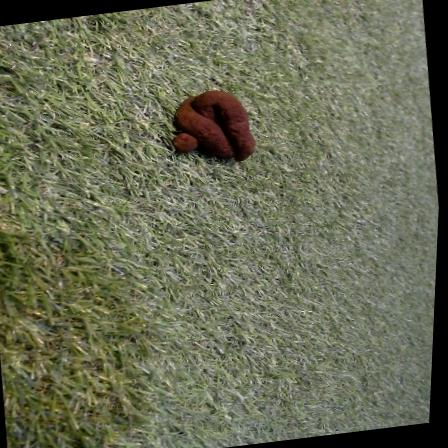dog-poop: (171, 88, 256, 164)
